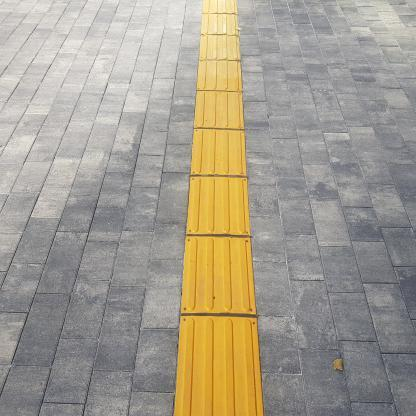podotacti: (166, 0, 271, 415)
